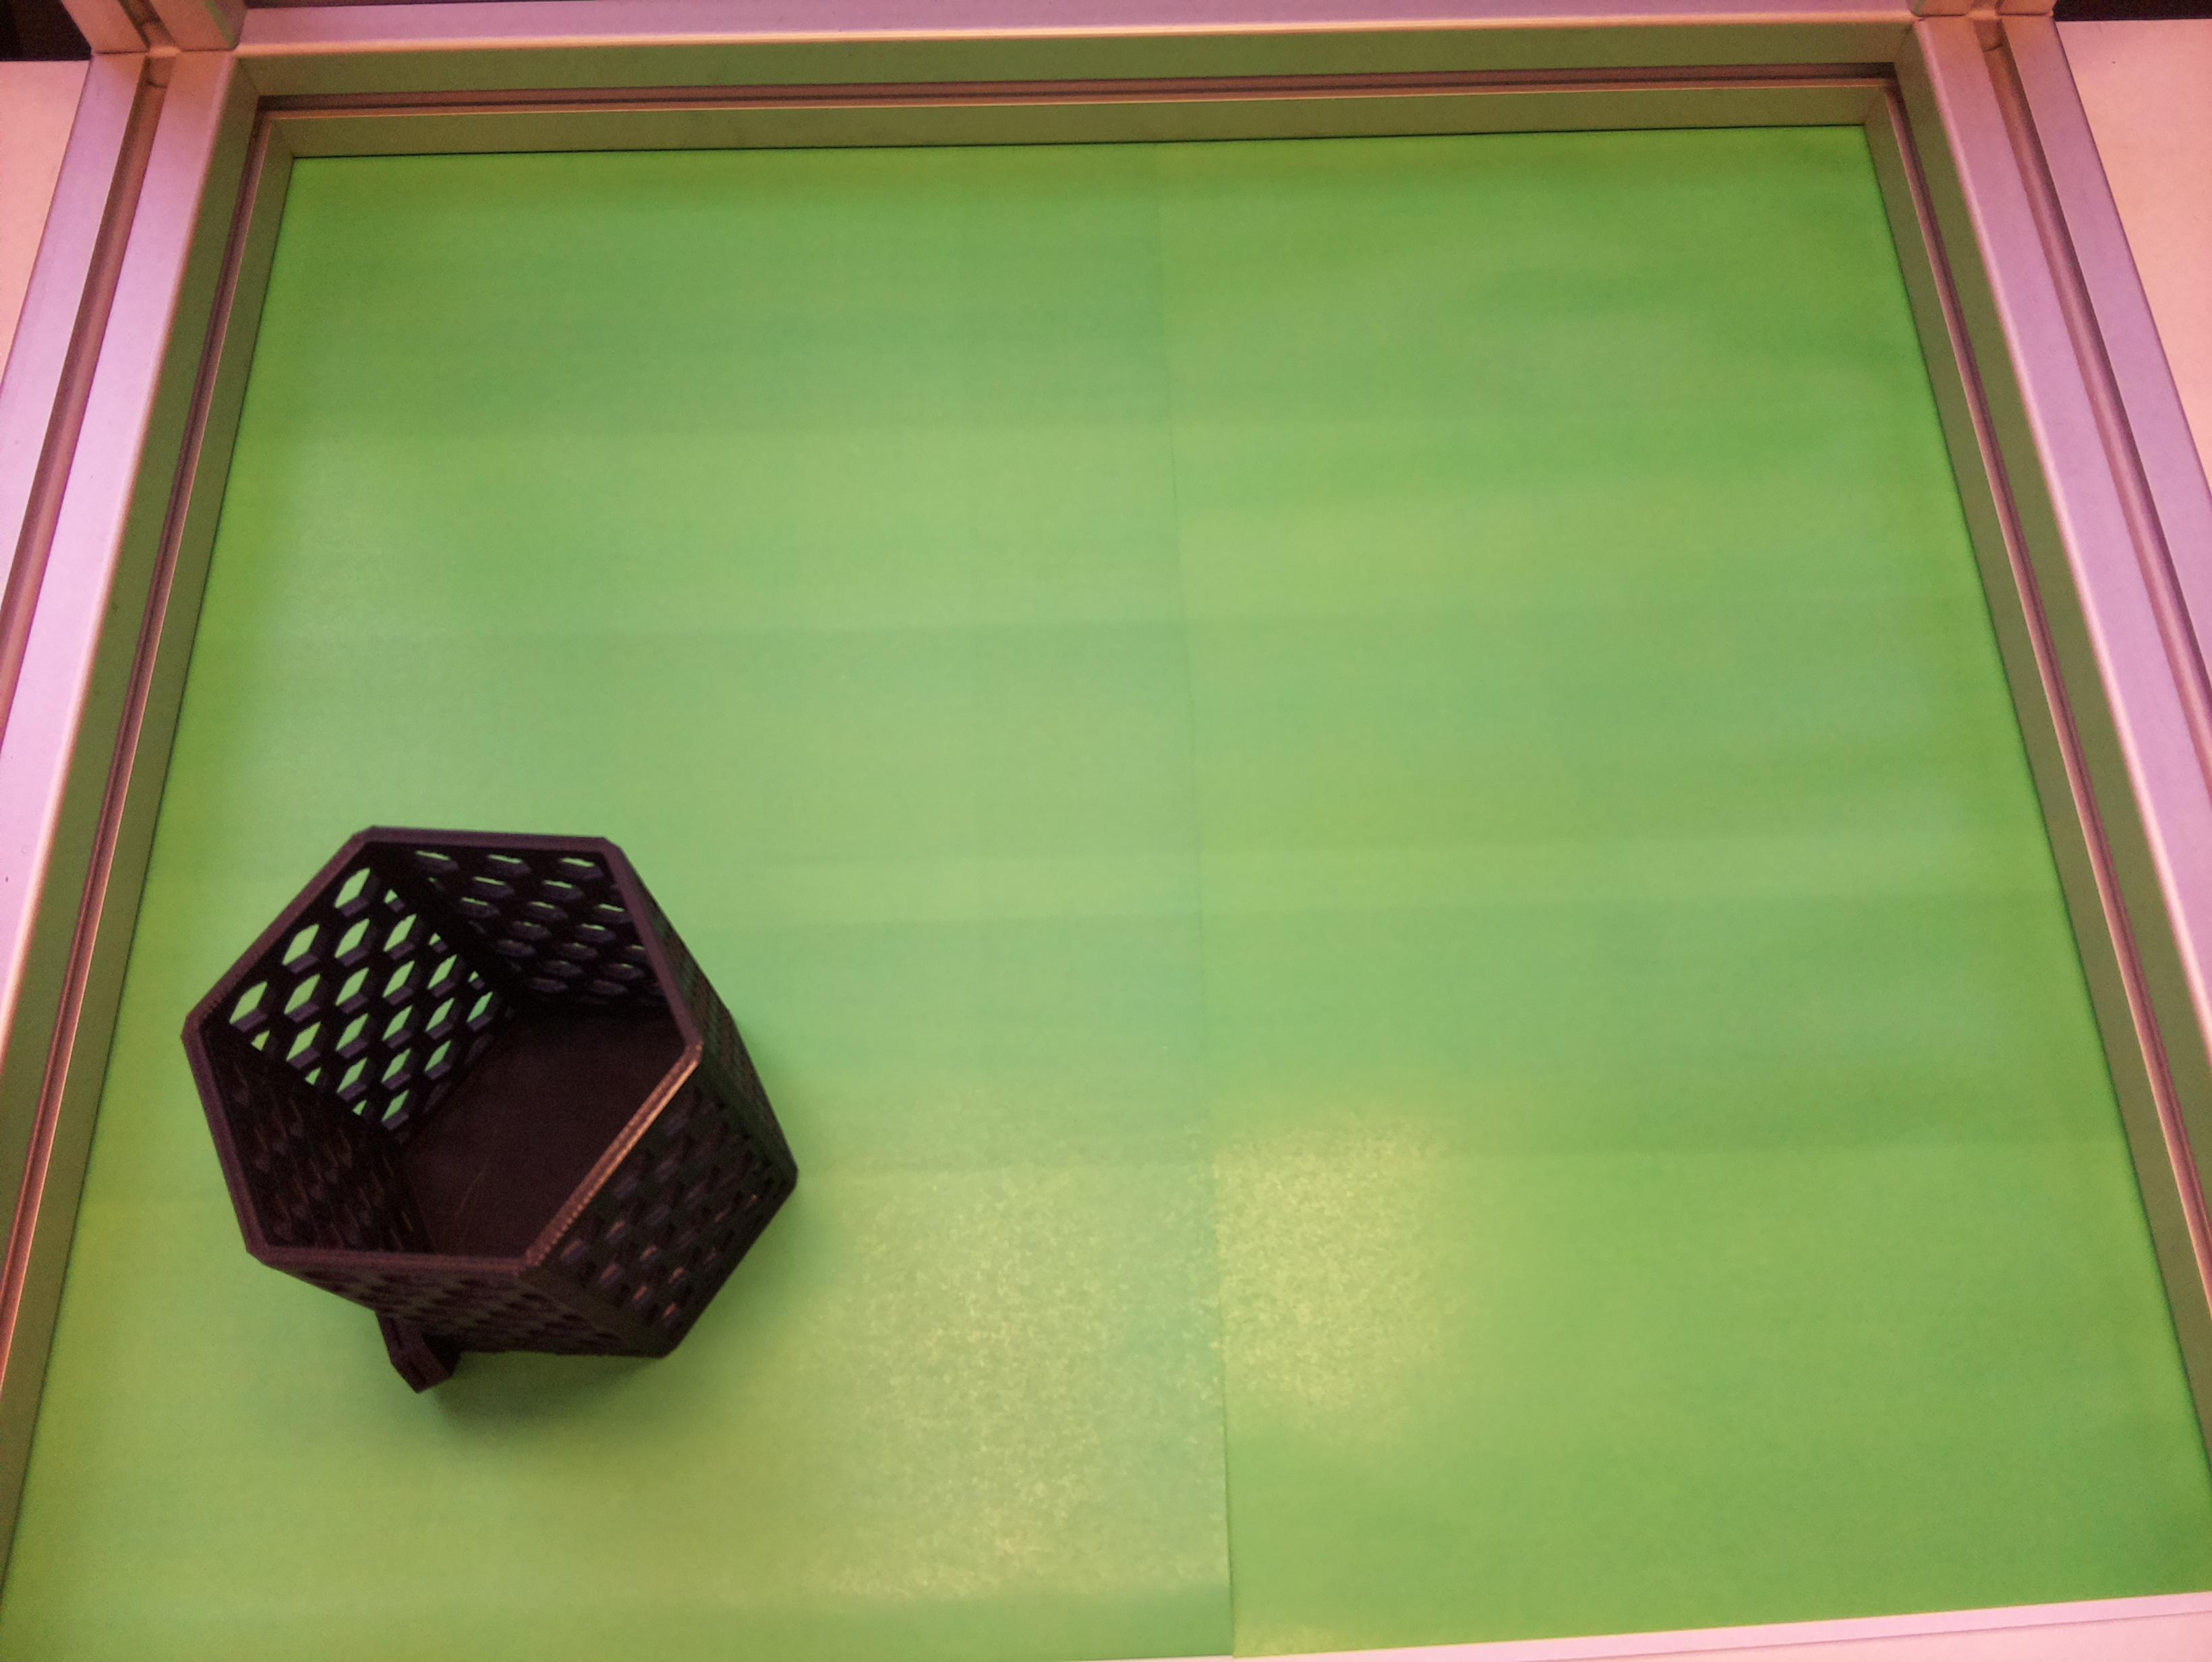cup_holder: (98, 705, 897, 1501)
